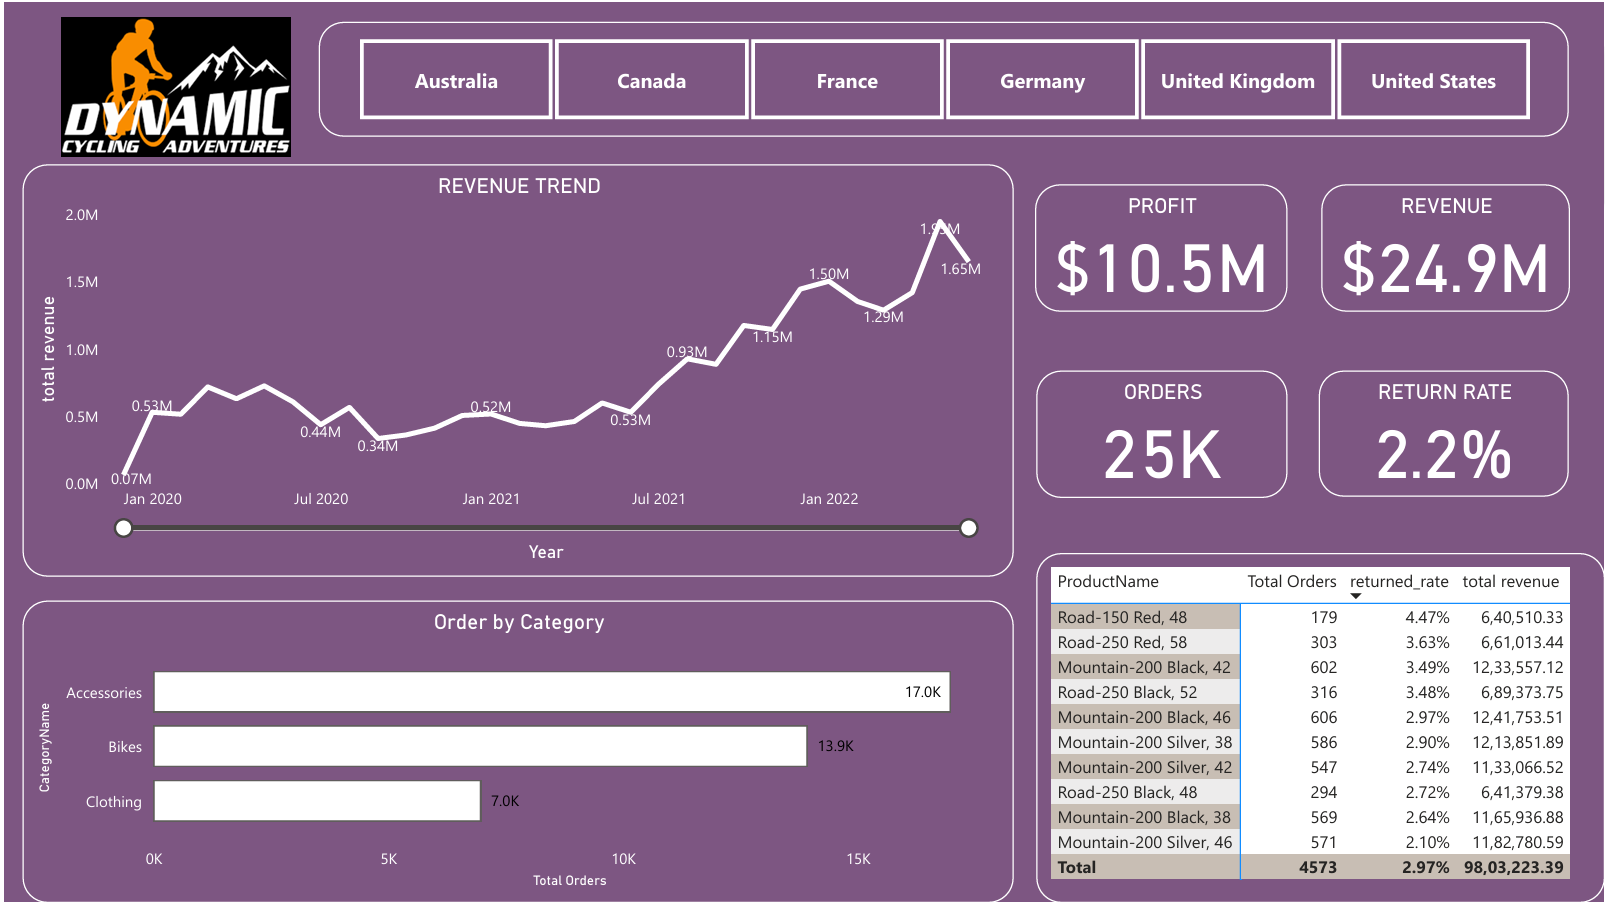

What the dashboard file says about the page in this screenshot:
{"tool":"powerbi","page":{"name":"Page 2","canvas":[1280,720],"ordinal":1},"visuals":[{"type":"card","title":"REVENUE","fields":{"Values":["Measure.total revenue"]},"box":[1052.9,144.7,198.8,102.4],"z":0},{"type":"lineChart","title":"REVENUE TREND","fields":{"Category":["Calendar Lookup.Start of Month.Variation.Date Hierarchy.Year","Calendar Lookup.Start of Month.Variation.Date Hierarchy.Quarter","Calendar Lookup.Start of Month.Variation.Date Hierarchy.Month","Calendar Lookup.Start of Month.Variation.Date Hierarchy.Day"],"Y":["Measure.total revenue"]},"box":[14.1,129.4,792.9,329.4],"z":1000},{"type":"card","title":"PROFIT","fields":{"Values":["Measure.total profit"]},"box":[823.5,144.7,202.4,102.4],"z":2000},{"type":"card","title":"ORDERS","fields":{"Values":["Measure.Total Orders"]},"box":[824.7,294.1,201.2,102.4],"z":3000},{"type":"card","title":"RETURN RATE","fields":{"Values":["Measure.returned_rate"]},"box":[1050.6,294.1,200,101.2],"z":5000},{"type":"pivotTable","fields":{"Rows":["Product Lookup.ProductName"],"Values":["Measure.Total Orders","Measure.returned_rate","Measure.total revenue"]},"box":[824.7,440,455.3,280],"z":6000},{"type":"clusteredBarChart","title":"Order by Category","fields":{"Category":["Product Categories Lookup.CategoryName"],"Y":["Measure.Total Orders"]},"box":[14.1,477.6,792.9,242.4],"z":7000},{"type":"slicer","fields":{"Values":["Territory Lookup.Country"]},"box":[250.6,15.3,1000,91.8],"z":7001},{"type":"image","box":[0,7.1,274.1,122.4],"z":7002}]}

Visuals, with their boxes in screenshot pixels (x1, y1, x2, y2), scaled from the page's 1280x720 canvas onto the 1607x905 screenshot:
"REVENUE" card: [x1=1322, y1=182, x2=1571, y2=311]
"REVENUE TREND" lineChart: [x1=18, y1=163, x2=1013, y2=577]
"PROFIT" card: [x1=1034, y1=182, x2=1288, y2=311]
"ORDERS" card: [x1=1035, y1=370, x2=1288, y2=498]
"RETURN RATE" card: [x1=1319, y1=370, x2=1570, y2=497]
pivotTable - Product Lookup.ProductName x Measure.Total Orders: [x1=1035, y1=553, x2=1606, y2=904]
"Order by Category" clusteredBarChart: [x1=18, y1=600, x2=1013, y2=904]
slicer - Territory Lookup.Country: [x1=315, y1=19, x2=1570, y2=135]
image: [x1=0, y1=9, x2=344, y2=163]
